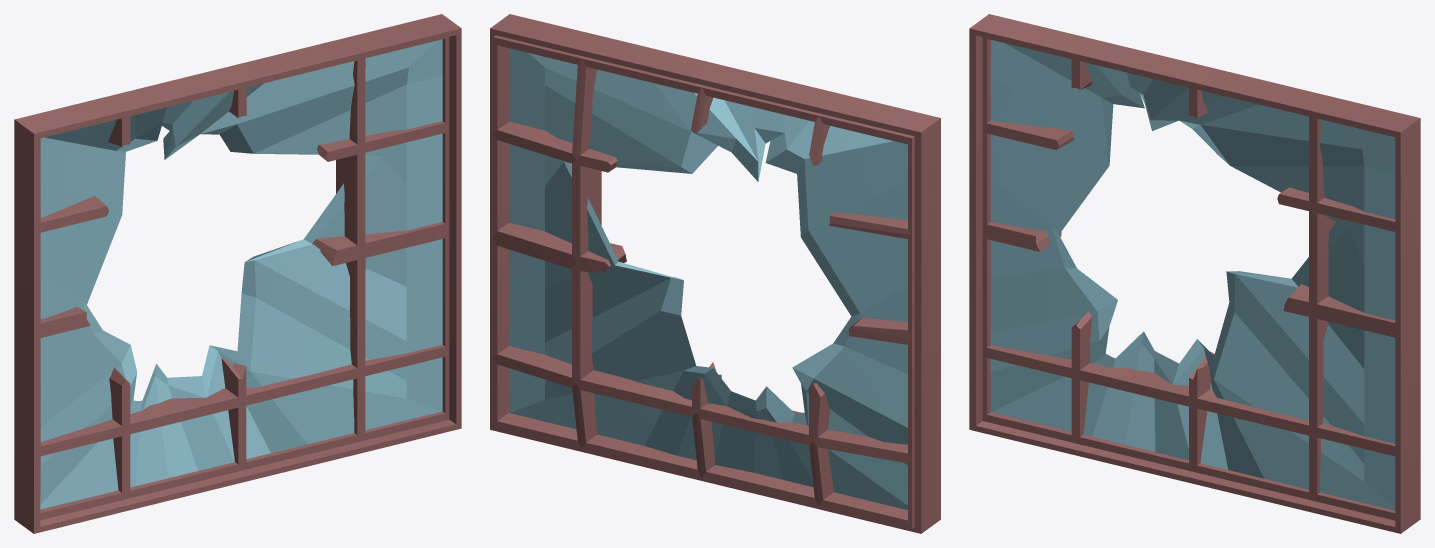
The model's file is window_1.glb.
The picture shows the model from 3 angles, left to right: view 1: azimuth 30°, elevation 25°; view 2: azimuth 150°, elevation 25°; view 3: azimuth 330°, elevation 25°; orthographic projection.
Parts seen in each view (by area): view 1: window_panel_1.001, window_bars_1.001; view 2: window_panel_1.001, window_bars_1.001; view 3: window_panel_1.001, window_bars_1.001.
Boxes of the visible parts, x1,y1,x2,y2 form: window_panel_1.001: [40, 39, 442, 509]; window_bars_1.001: [14, 14, 461, 533]; window_panel_1.001: [509, 48, 907, 510]; window_bars_1.001: [490, 14, 940, 533]; window_panel_1.001: [990, 40, 1395, 510]; window_bars_1.001: [969, 14, 1420, 533].
Size of the model in its own units: 2.1 by 1.87 by 0.2444.
Materials: 1 (1 with a texture image).
